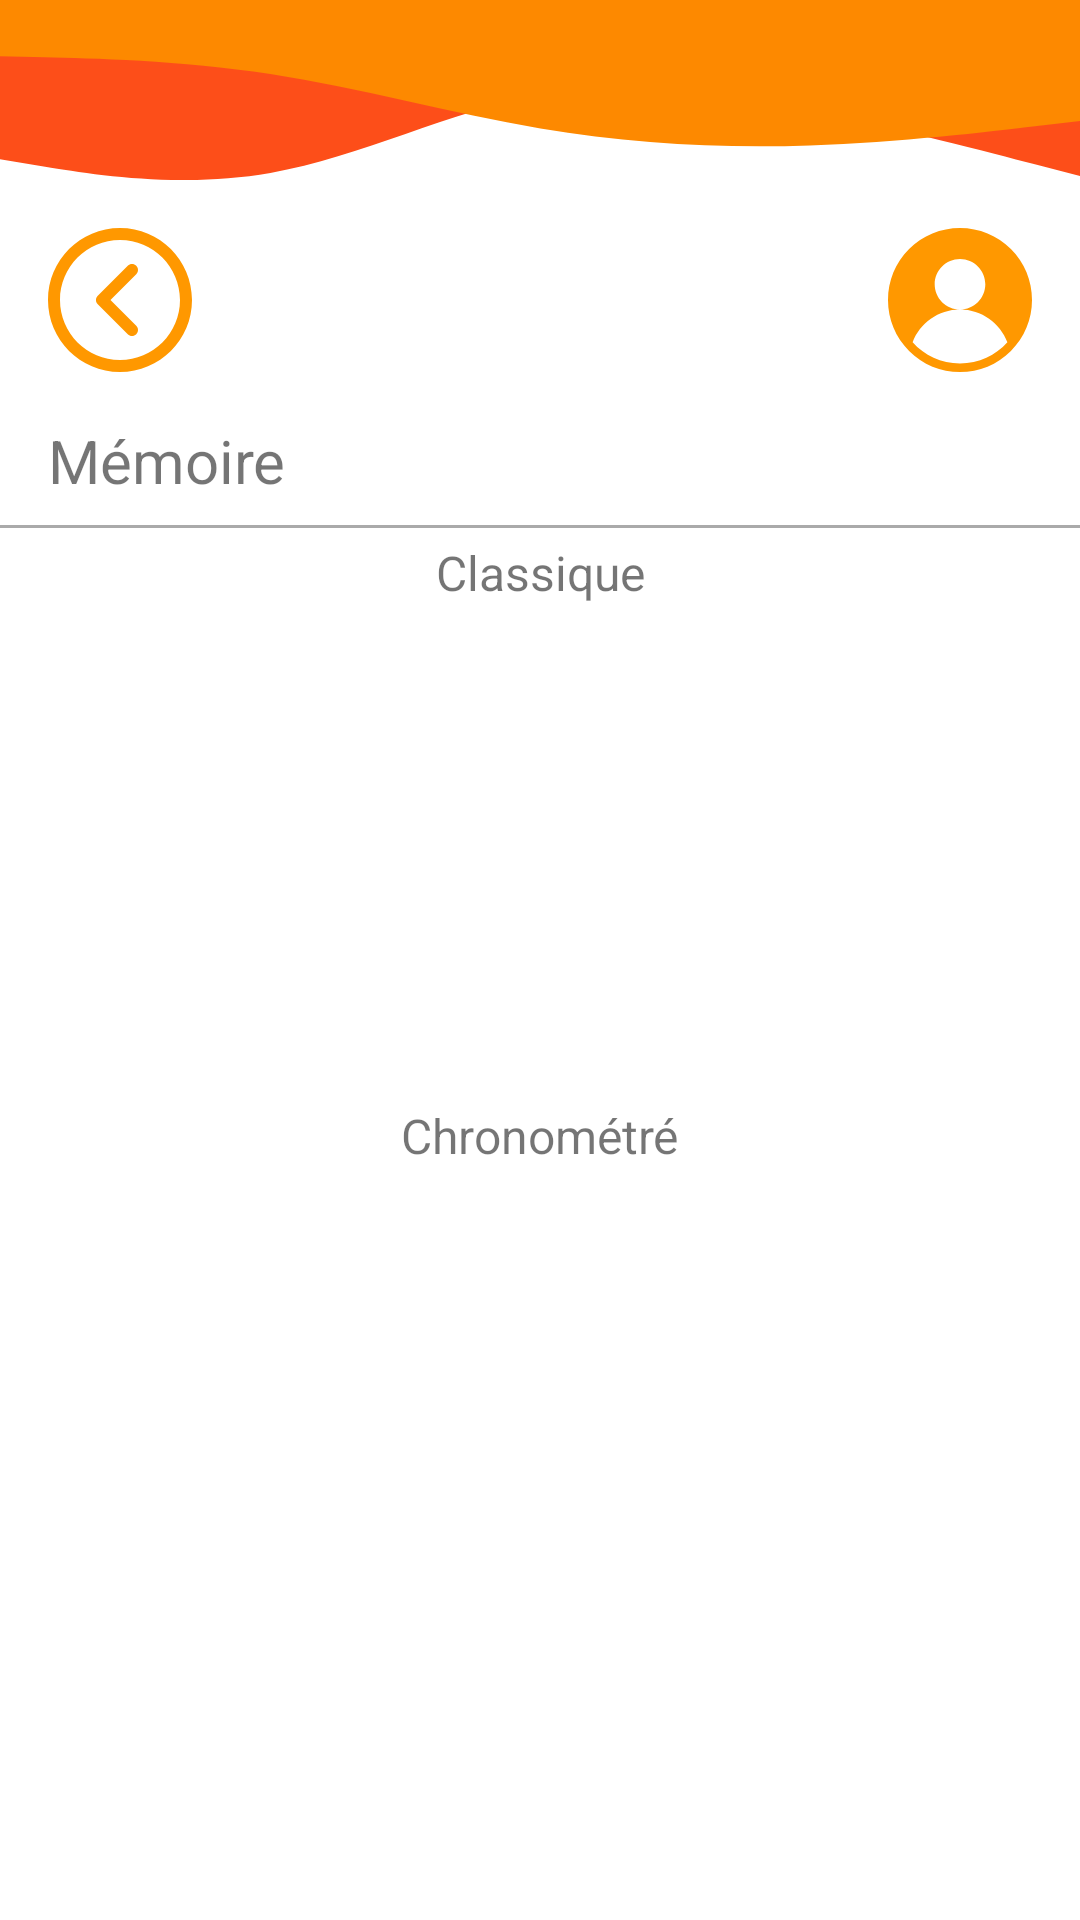

Locate icon controls on the screen. Image size 1080px x 1920px, boxes as (x1, y1, x2, y2).
previous: (48, 228, 192, 372)
user: (888, 228, 1032, 372)
